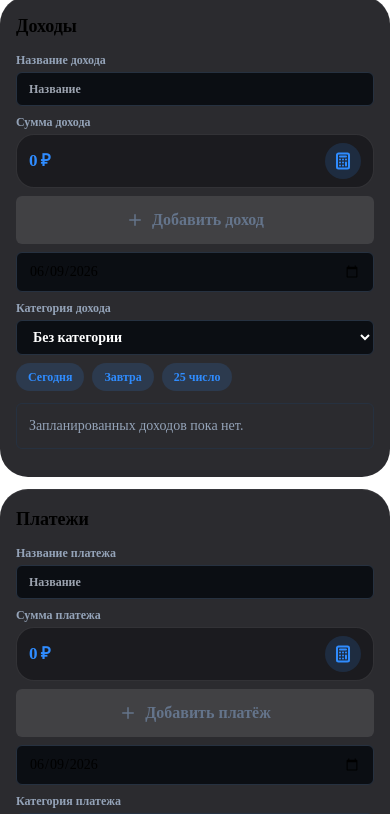
Test: PlanScreen › creates a monthly payment schedule with a different final payment
Type "Оборотный кредит" into the field labelled "Название платежа". click: (195, 582)
box: left=16, top=565, right=374, bottom=599
Replace the text in the field named "Сумма платежа" with "15485". click: (195, 652)
box: left=16, top=623, right=374, bottom=681
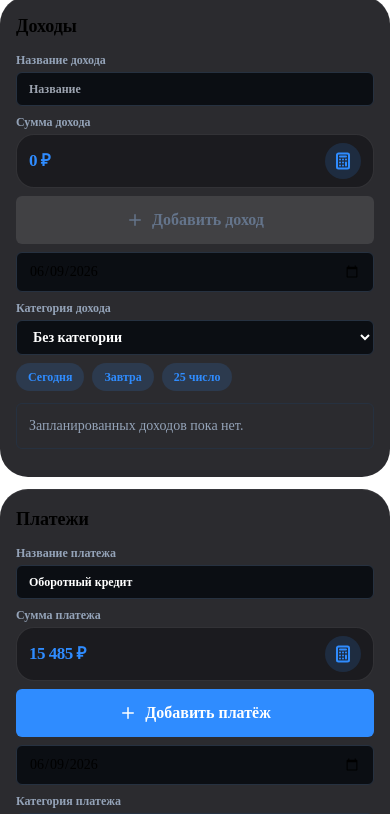
Type "2026-05-22" into the date field named "Добавить платёж: дата". click: (195, 765)
box: left=16, top=745, right=374, bottom=785
(page scrolled)
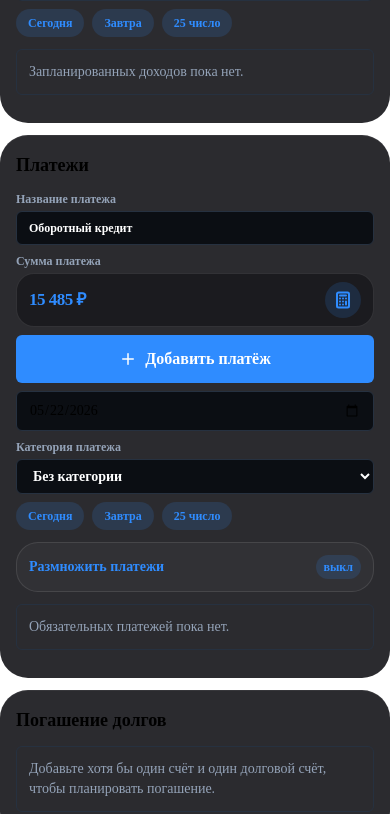
Click the button "Размножить платежи выкл". click: (97, 566)
box: left=29, top=555, right=361, bottom=579
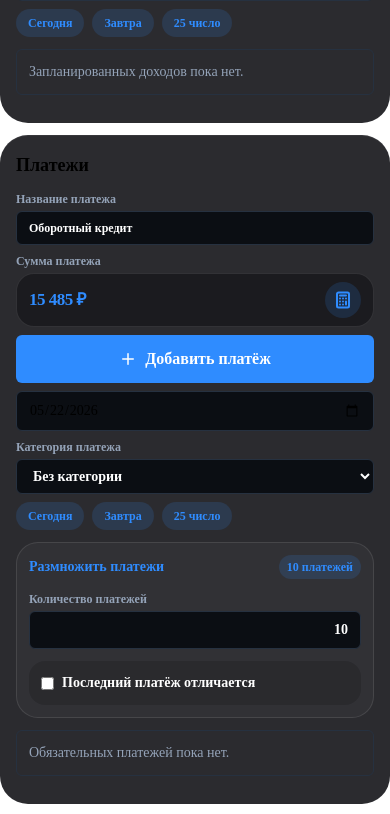
Replace the text in the field labelled "Количество платежей" with "11". click: (195, 630)
box: left=29, top=611, right=361, bottom=649
Click the checkbox labelled "Последний платёж отличается". click: (48, 683)
box: left=41, top=676, right=54, bottom=690
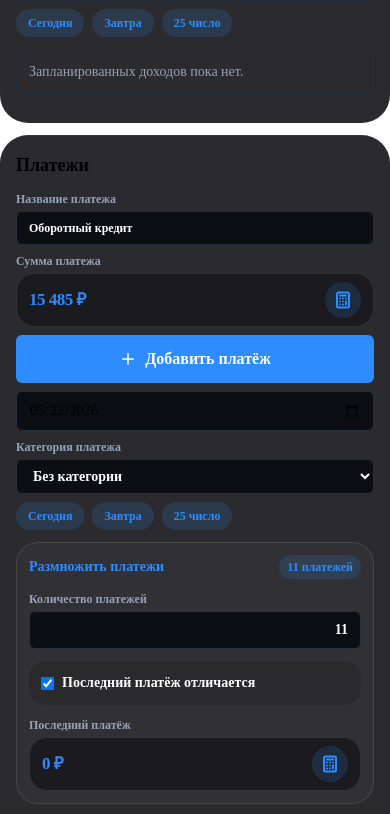
Replace the text in the field named "Последний платёж" with "12500". click: (195, 762)
box: left=29, top=733, right=361, bottom=791
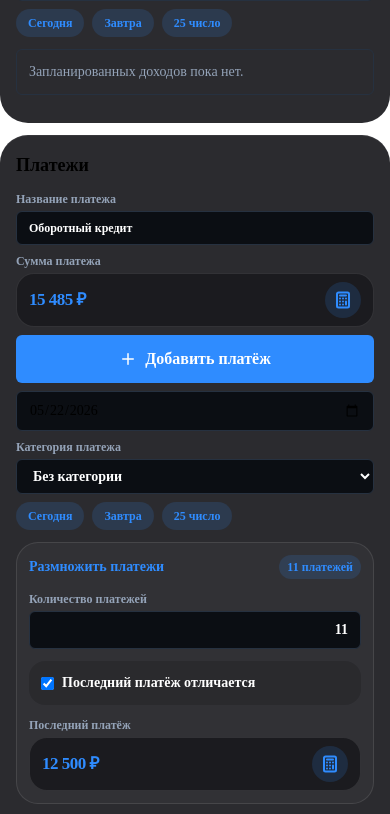
Click the button labelled "Добавить платёж". click: (195, 359)
box: left=16, top=335, right=374, bottom=383
(page scrolled)
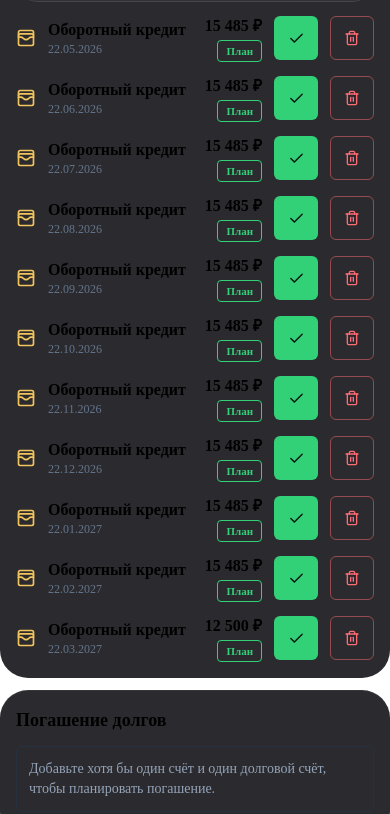
Result: the text "12 500 ₽" is shown at left=205, top=614, right=262, bottom=638
Result: the text "Оборотный кредит" is shown 11 times
Result: the text "15 485 ₽" is shown 10 times
